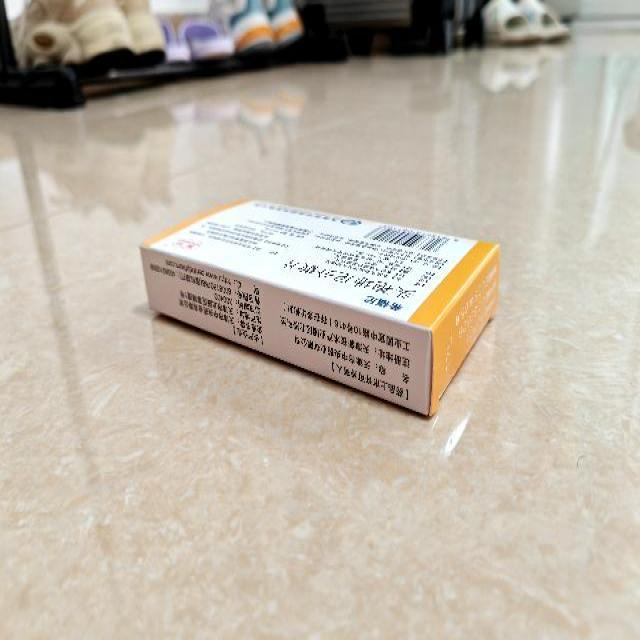box: (140, 197, 500, 416)
